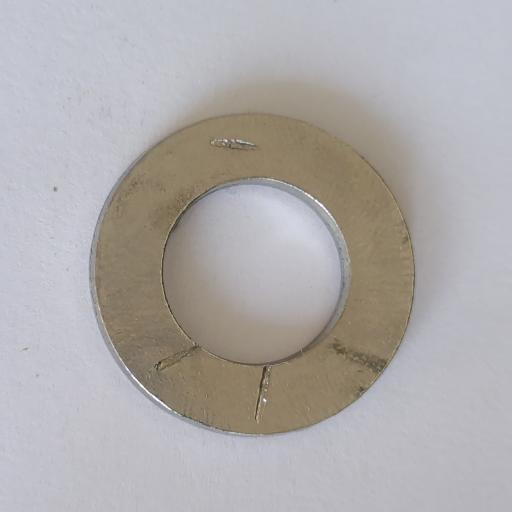scratch: (154, 346, 202, 372), (255, 364, 271, 424), (209, 139, 262, 152)
